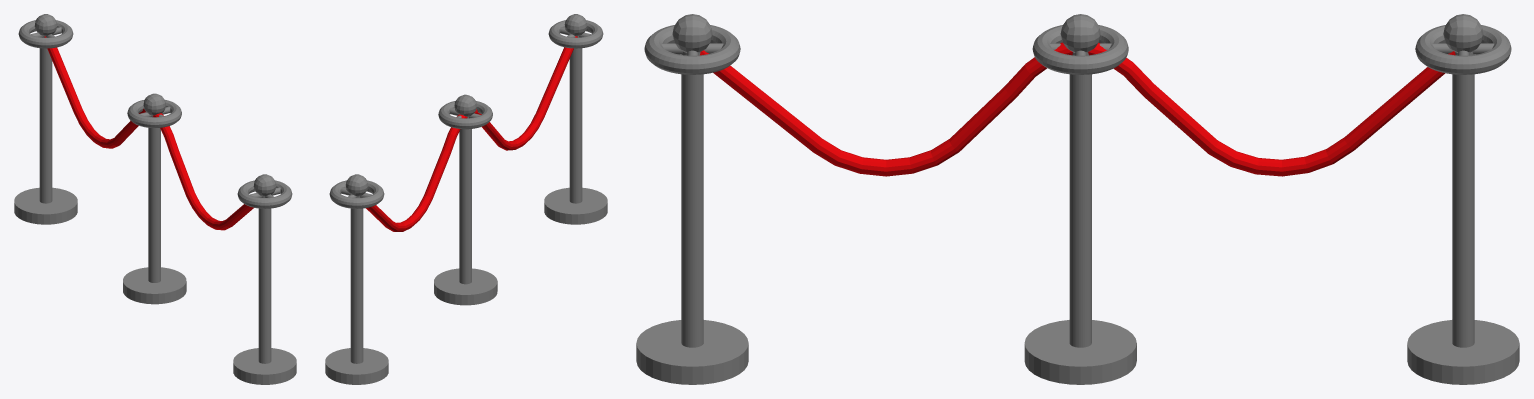
The model's file is STAGE ROPES.glb.
3 renders of one model, left to right at view 1: azimuth 30°, elevation 25°; view 2: azimuth 150°, elevation 25°; view 3: azimuth 270°, elevation 25°, orthographic. The views are drawn at different scales.
Parts seen in each view (by area): view 1: STAGE ROPES; view 2: STAGE ROPES; view 3: STAGE ROPES.
Boxes of the visible parts, x1,y1,x2,y2 form: STAGE ROPES: (14, 14, 296, 384); STAGE ROPES: (325, 14, 607, 384); STAGE ROPES: (636, 14, 1519, 384).
Bounding box in the file's own units: 1.81 × 6.14 × 14.22.
